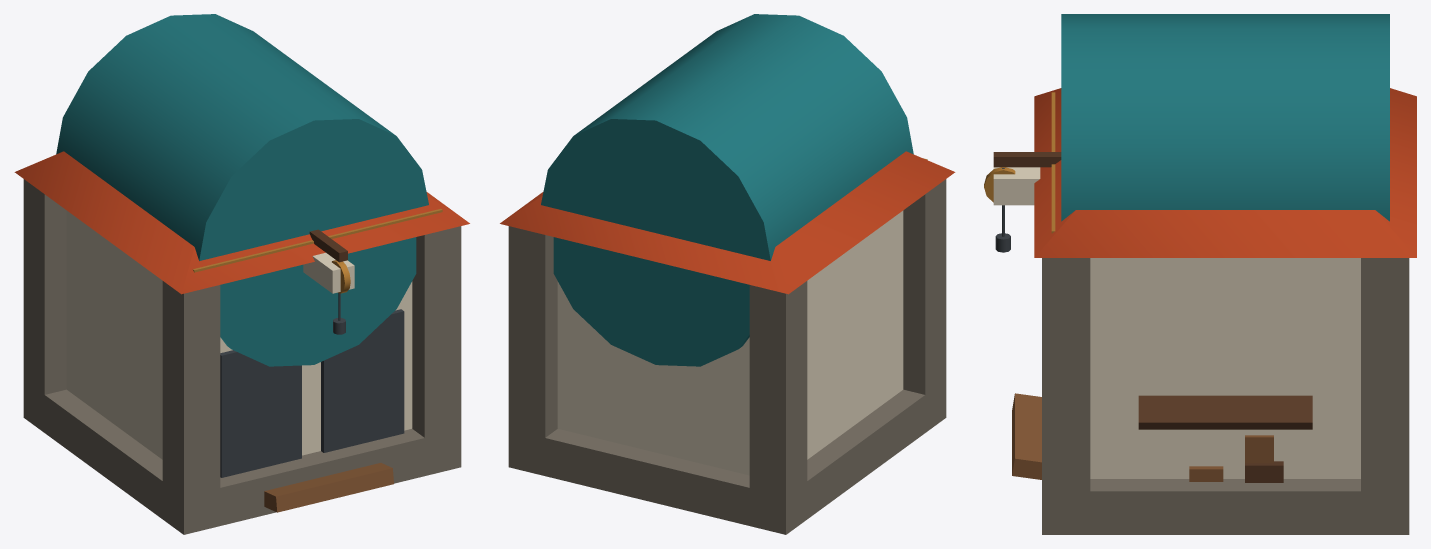
Rendered from warehouse.glb.
3 views of the same model, side by side, from view 1: azimuth 30°, elevation 25°; view 2: azimuth 150°, elevation 25°; view 3: azimuth 270°, elevation 25° (orthographic). The views are drawn at different scales.
Visible parts, largest first — view 1: visual_level_3, visual_level_2; view 2: visual_level_3, visual_level_2; view 3: visual_level_3, visual_level_2, visual_level_1.
Part boxes in pixels (bbox=[...]): visual_level_3: bbox=[23, 14, 461, 534]; visual_level_2: bbox=[14, 151, 469, 512]; visual_level_3: bbox=[508, 14, 946, 534]; visual_level_2: bbox=[500, 151, 955, 294]; visual_level_3: bbox=[984, 14, 1409, 534]; visual_level_2: bbox=[993, 88, 1416, 479]; visual_level_1: bbox=[1138, 395, 1312, 482].
Size of what is drawn, in the model's own units: 3.98 by 4.9 by 4.48.
